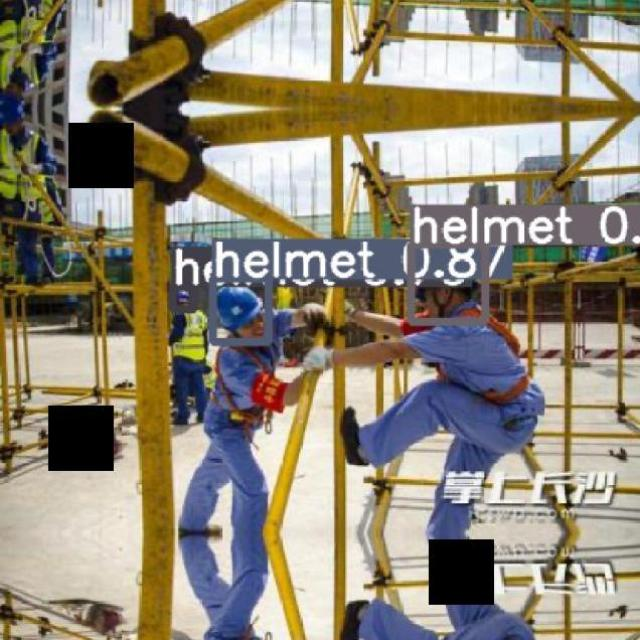blue helmet: (414, 248, 479, 296), (217, 282, 268, 340), (176, 285, 195, 307)
